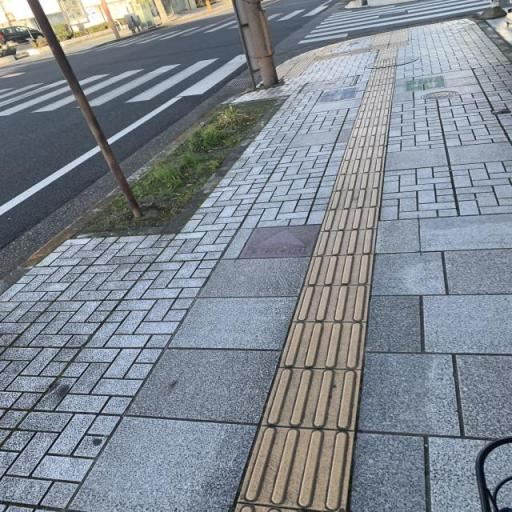line: (237, 424, 356, 511), (260, 366, 362, 430), (278, 320, 366, 370), (291, 285, 371, 321), (302, 253, 374, 285), (309, 229, 375, 256), (319, 206, 379, 232), (326, 187, 382, 208), (334, 172, 386, 192)
